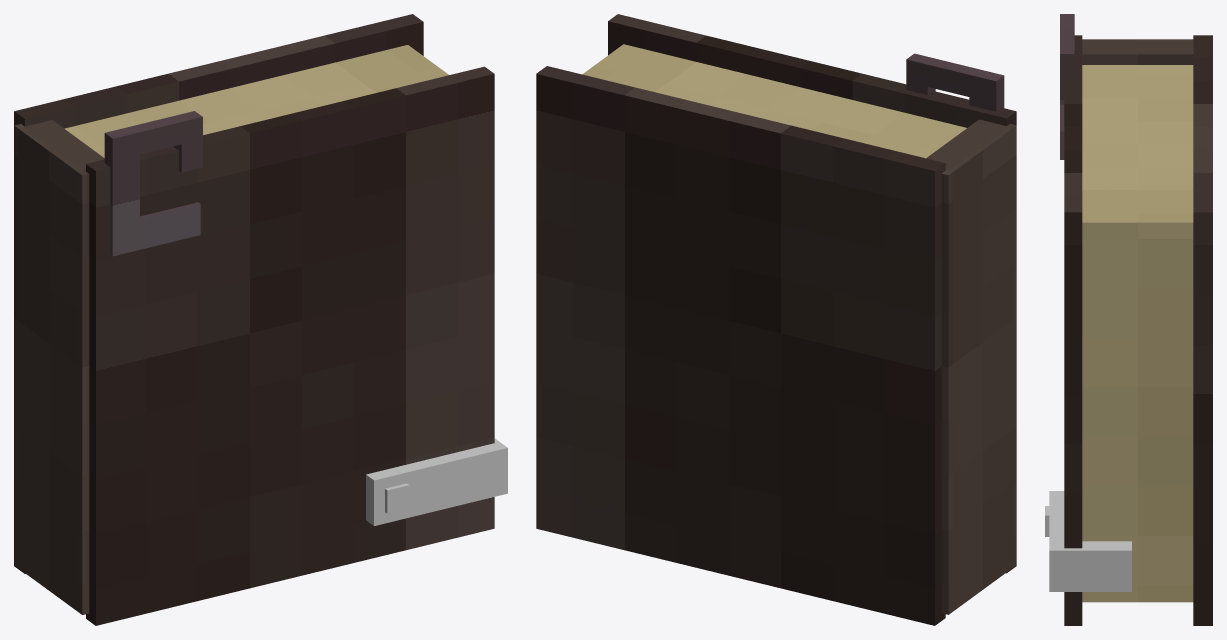
File: cutout.obj
The picture shows the model from 3 angles, left to right: view 1: azimuth 30°, elevation 25°; view 2: azimuth 150°, elevation 25°; view 3: azimuth 270°, elevation 25°; orthographic projection. The views are drawn at different scales.
Bounding box in the file's own units: 0.4931 × 0.5569 × 0.1919.
